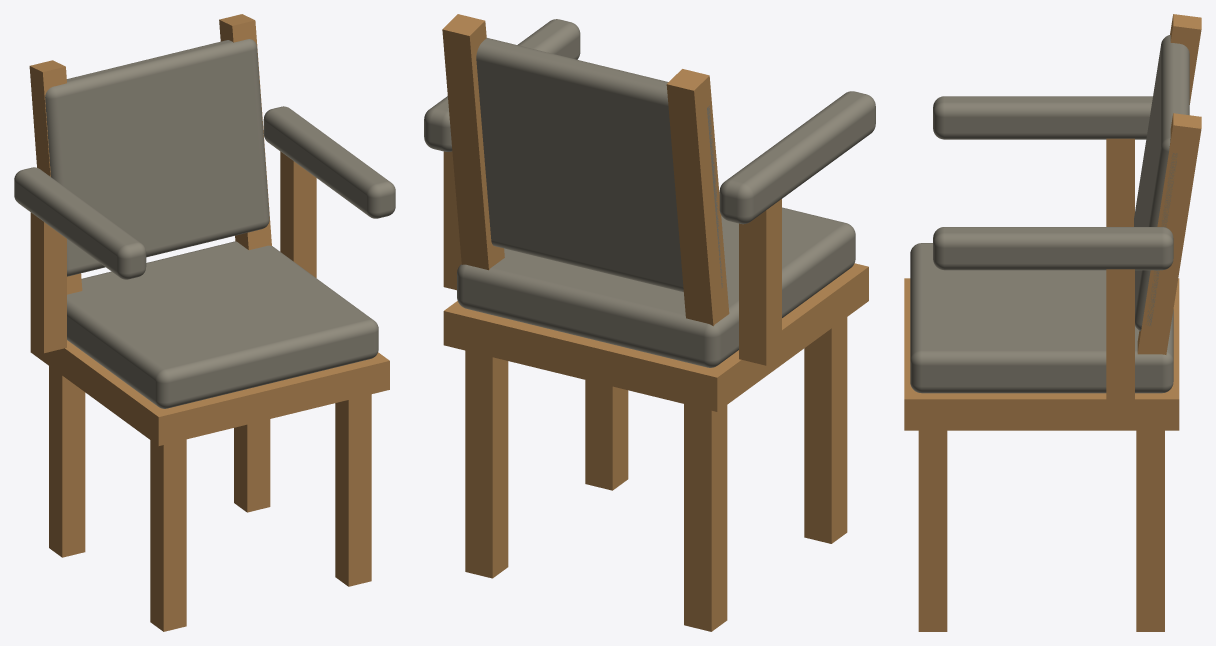
Rendered from chair.glb.
The picture shows the model from 3 angles, left to right: view 1: azimuth 30°, elevation 25°; view 2: azimuth 150°, elevation 25°; view 3: azimuth 270°, elevation 25°; orthographic projection. The views are drawn at different scales.
Size of the model in its own units: 600 by 979 by 519.
